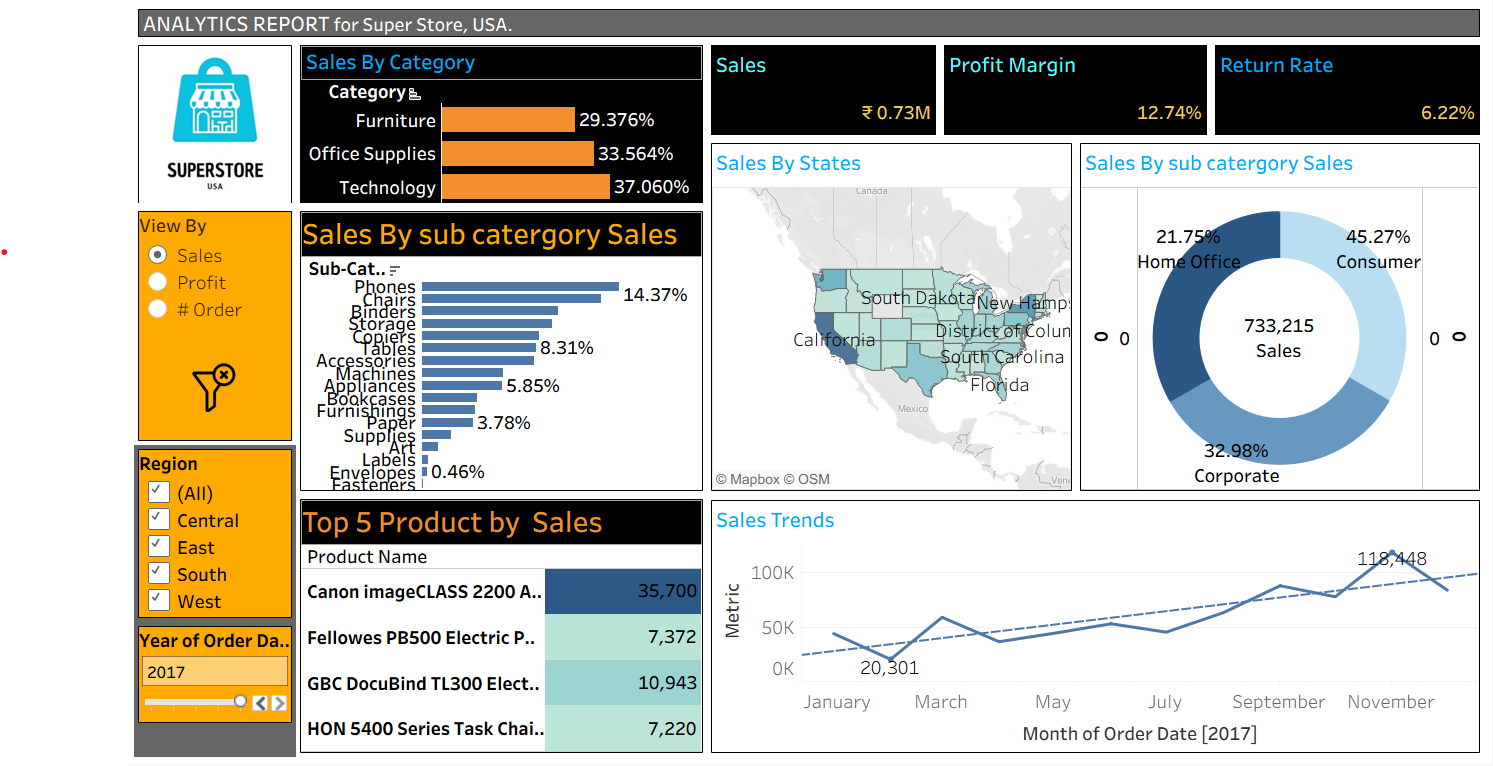

Layout of this report page (visuals, bound fields, positions):
{"tool":"tableau","page":{"name":"Dashboard 1","canvas":[1366,768],"ordinal":0},"visuals":[{"type":"text","box":[8,8,1350,35.6]},{"type":"image","param":"Image/Picture1.jpg","box":[8,43.6,161.9,166.9]},{"type":"worksheet","title":"Category","mark":"Automatic","rows":["Category"],"cols":["Calculation_709035523457564672"],"box":[169.9,43.6,411.3,166.9]},{"type":"worksheet","title":"Metric","mark":"Automatic","box":[581.2,43.6,232.7,98.5]},{"type":"worksheet","title":"Profit margin","mark":"Automatic","box":[813.9,43.6,271.4,98.5]},{"type":"worksheet","title":"Return Rate","mark":"Automatic","box":[1085.3,43.6,272.7,98.5]},{"type":"worksheet","title":"Map","mark":"Multipolygon","box":[581.2,142.1,369,356.5]},{"type":"worksheet","title":"Segment","mark":"Pie","rows":["Calculation_709035523469864965","Calculation_709035523469897735"],"box":[950.2,142.1,407.8,356.5]},{"type":"parameter","param":"[Parameters].[Parameter 1]","box":[8,210.5,161.9,237.9]},{"type":"worksheet","title":"Sub-Category","mark":"Automatic","rows":["Sub-Category"],"cols":["Calculation_709035523457564672"],"box":[169.9,210.5,411.3,287.8]},{"type":"dashboard-object","box":[63.3,357.4,48.6,67.7]},{"type":"filter","title":"Category","param":"[federated.08xkphb0xphgm3143c89x00jacxz].[none:Region:nk]","box":[8,448.4,161.9,177]},{"type":"worksheet","title":"Product","mark":"Square","rows":["Product Name"],"box":[169.9,498.2,411.3,261.8]},{"type":"worksheet","title":"Trends","mark":"Automatic","rows":["Calculation_709035523457564672"],"cols":["Order Date"],"box":[581.2,498.6,776.8,261.4]},{"type":"filter","title":"Category","param":"[federated.08xkphb0xphgm3143c89x00jacxz].[yr:Order Date:ok]","box":[8,625.4,161.9,105]}]}

Visuals, with their boxes in screenshot pixels (x1, y1, x2, y2):
text: box(136, 4, 1464, 39)
image: box(136, 39, 295, 203)
"Category" worksheet: box(295, 39, 700, 203)
"Metric" worksheet: box(700, 39, 929, 136)
"Profit margin" worksheet: box(929, 39, 1196, 136)
"Return Rate" worksheet: box(1196, 39, 1464, 136)
"Map" worksheet (Multipolygon marks): box(700, 136, 1063, 486)
"Segment" worksheet (Pie marks): box(1063, 136, 1464, 486)
parameter: box(136, 203, 295, 437)
"Sub-Category" worksheet: box(295, 203, 700, 486)
dashboard-object: box(191, 348, 238, 414)
"Category" filter: box(136, 437, 295, 611)
"Product" worksheet (Square marks): box(295, 486, 700, 744)
"Trends" worksheet: box(700, 486, 1464, 744)
"Category" filter: box(136, 611, 295, 714)
